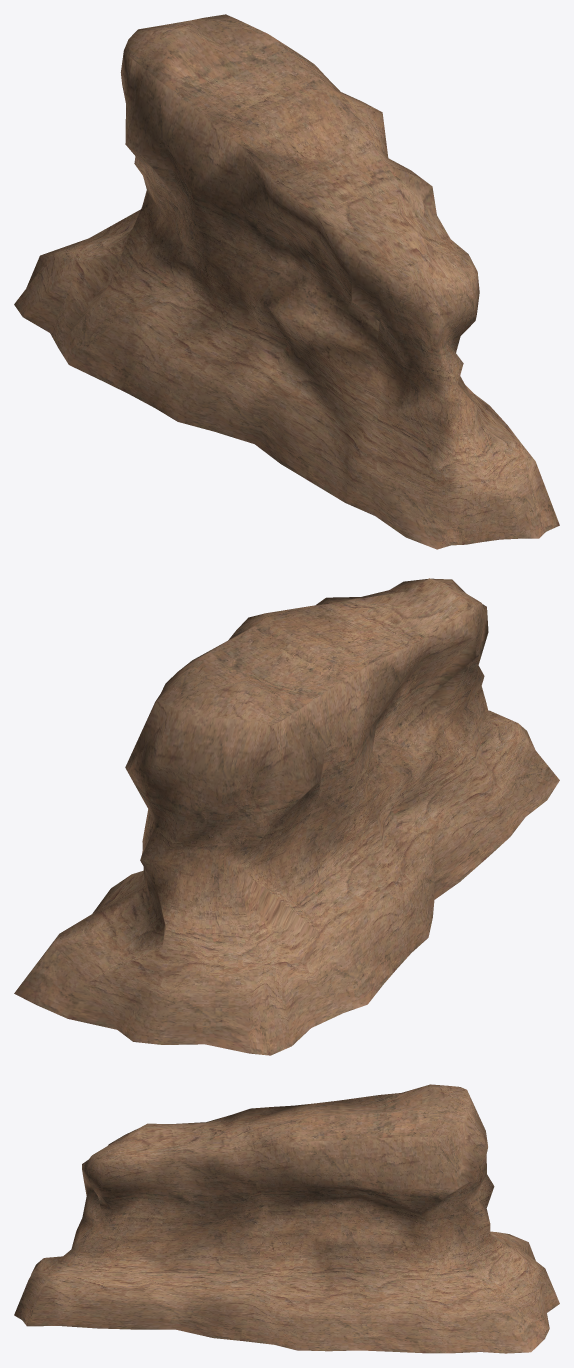
Rendered from rock_tatt_spire_fin_l1.fbx.
3 renders of one model, top to bottom at view 1: azimuth 30°, elevation 25°; view 2: azimuth 150°, elevation 25°; view 3: azimuth 270°, elevation 25°, orthographic. The views are drawn at different scales.
Visible parts, largest first — view 1: mesh_node; view 2: mesh_node; view 3: mesh_node.
Part boxes in pixels (<box>): mesh_node: <box>14,14,559,549</box>; mesh_node: <box>14,578,559,1055</box>; mesh_node: <box>14,1084,559,1353</box>.
Size of the model in its own units: 98.84 by 98.94 by 232.
1 material, 1 textured.
